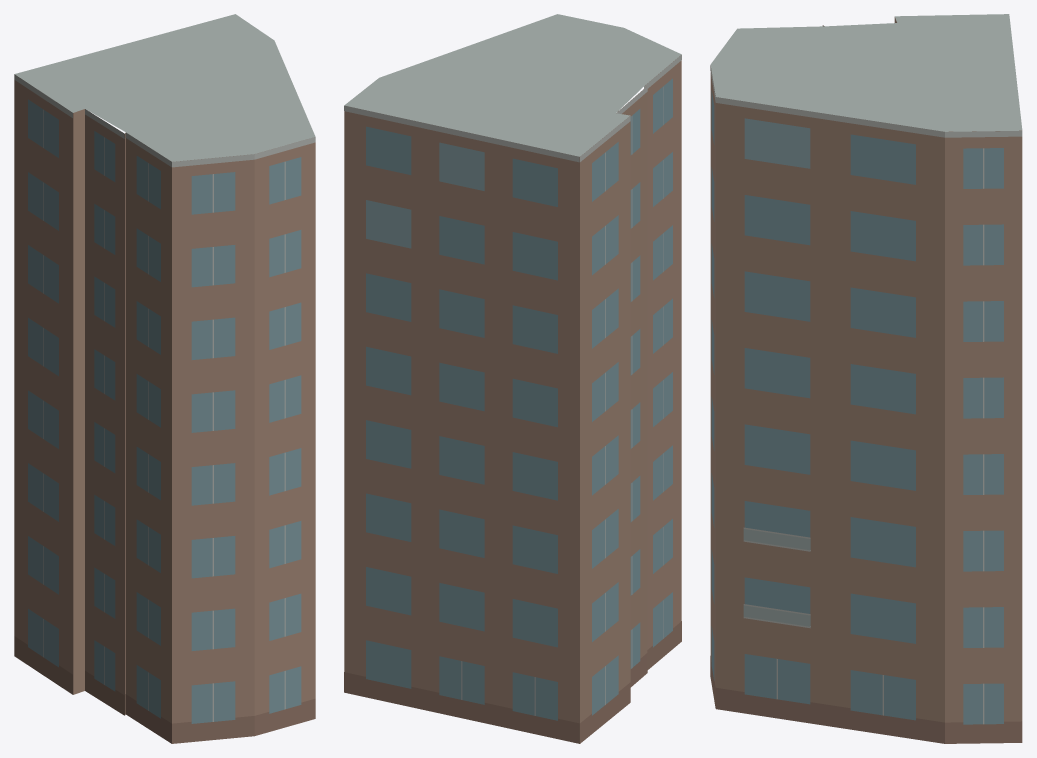
Rendered from survey-upis-32898135.glb.
3 views of the same model, side by side, from view 1: azimuth 30°, elevation 25°; view 2: azimuth 150°, elevation 25°; view 3: azimuth 270°, elevation 25° (orthographic). The views are drawn at different scales.
Visible parts, largest first — view 1: survey-upis-32898135.tmp; view 2: survey-upis-32898135.tmp; view 3: survey-upis-32898135.tmp.
Boxes of the visible parts, left/top/right/bottom form: survey-upis-32898135.tmp: left=14, top=14, right=315, bottom=743; survey-upis-32898135.tmp: left=344, top=14, right=681, bottom=743; survey-upis-32898135.tmp: left=710, top=14, right=1022, bottom=743.
Size of the model in its own units: 10.5 by 25.4 by 11.74.
